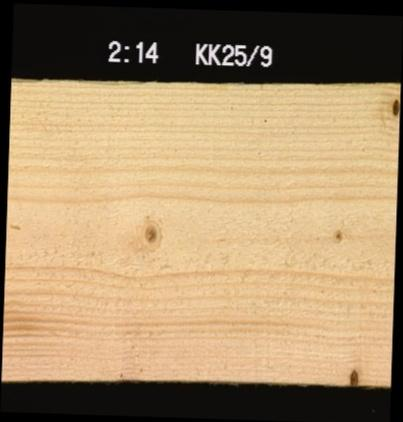dry_knot: (387, 92, 399, 116)
edge_knot: (346, 364, 359, 384)
small_knot: (329, 225, 345, 245)
sound_knot: (136, 216, 162, 247)
wave: (10, 77, 164, 86)
